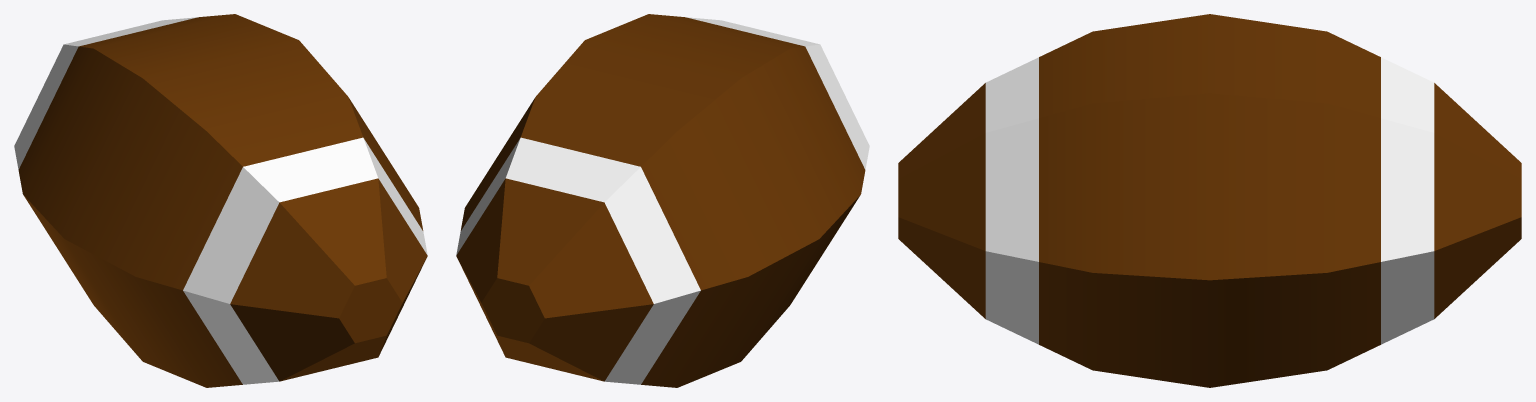
The model's file is footBall.fbx.
3 renders of one model, left to right at view 1: azimuth 30°, elevation 25°; view 2: azimuth 150°, elevation 25°; view 3: azimuth 270°, elevation 25°, orthographic. The views are drawn at different scales.
Parts seen in each view (by area): view 1: Model; view 2: Model; view 3: Model.
Boxes of the visible parts, box(x1,y1,x2,y2) form: Model: box(14, 14, 427, 387); Model: box(456, 14, 869, 387); Model: box(898, 14, 1521, 387).
Size of the model in its own units: 0.3012 by 0.2608 by 0.5.
